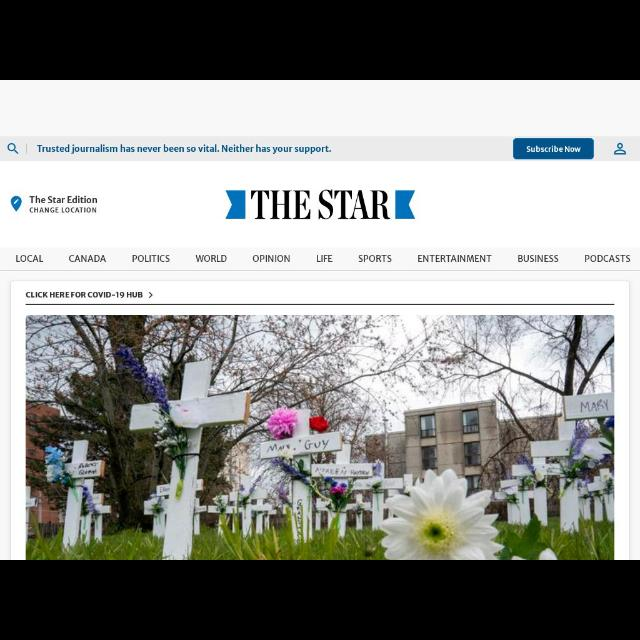icon: (4, 140, 22, 158), (614, 139, 626, 157), (148, 288, 154, 300)
image: (26, 314, 616, 560), (221, 185, 423, 225), (9, 187, 99, 219)
link: (23, 288, 145, 300)
multitab: (1, 246, 640, 278)
text: (34, 142, 336, 156), (418, 252, 494, 268), (516, 250, 560, 266), (250, 250, 292, 266), (358, 250, 394, 268), (582, 253, 632, 264), (526, 144, 580, 154), (68, 252, 105, 264), (14, 250, 44, 264), (196, 252, 226, 266), (132, 252, 172, 262), (316, 249, 332, 265)
textbutton: (512, 138, 594, 160)
toolbar: (2, 138, 640, 160)
